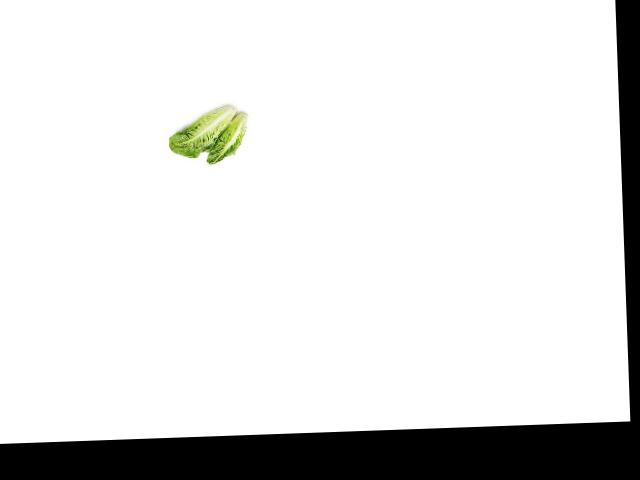lettuce: (167, 101, 233, 161)
